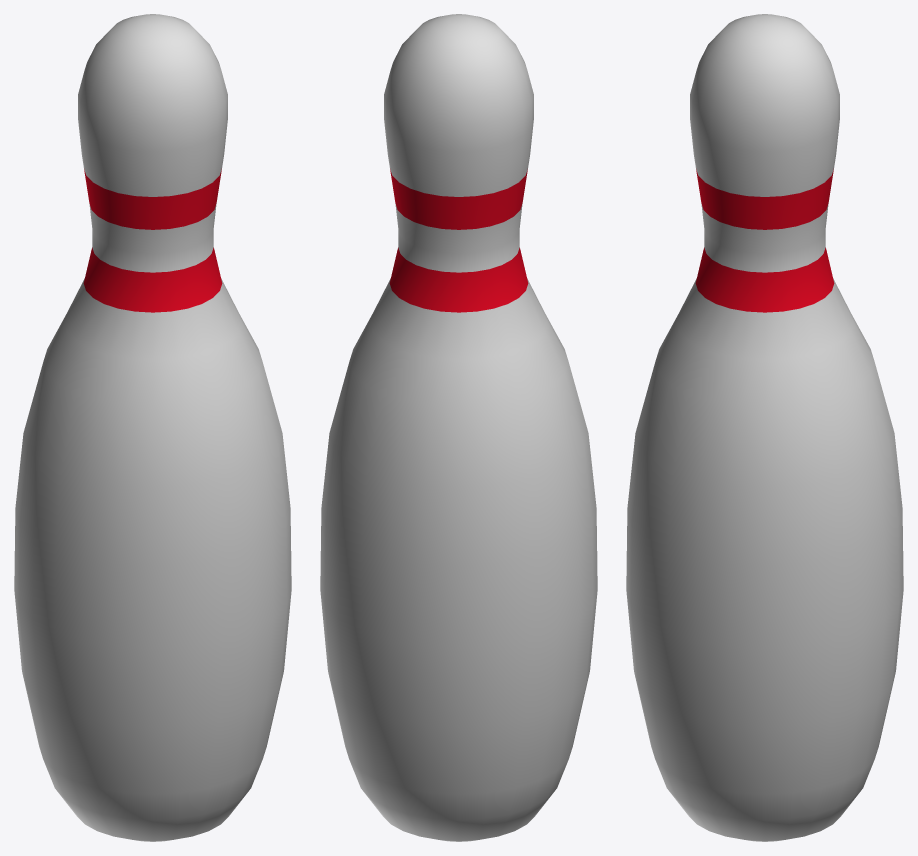
File: pinoBoliche.fbx
3 renders of one model, left to right at view 1: azimuth 30°, elevation 25°; view 2: azimuth 150°, elevation 25°; view 3: azimuth 270°, elevation 25°, orthographic.
Parts seen in each view (by area): view 1: Pino; view 2: Pino; view 3: Pino.
Boxes of the visible parts, x1,y1,x2,y2 form: Pino: [14, 14, 291, 841]; Pino: [320, 14, 597, 841]; Pino: [626, 14, 903, 841].
Size of the model in its own units: 268 by 857 by 268.
